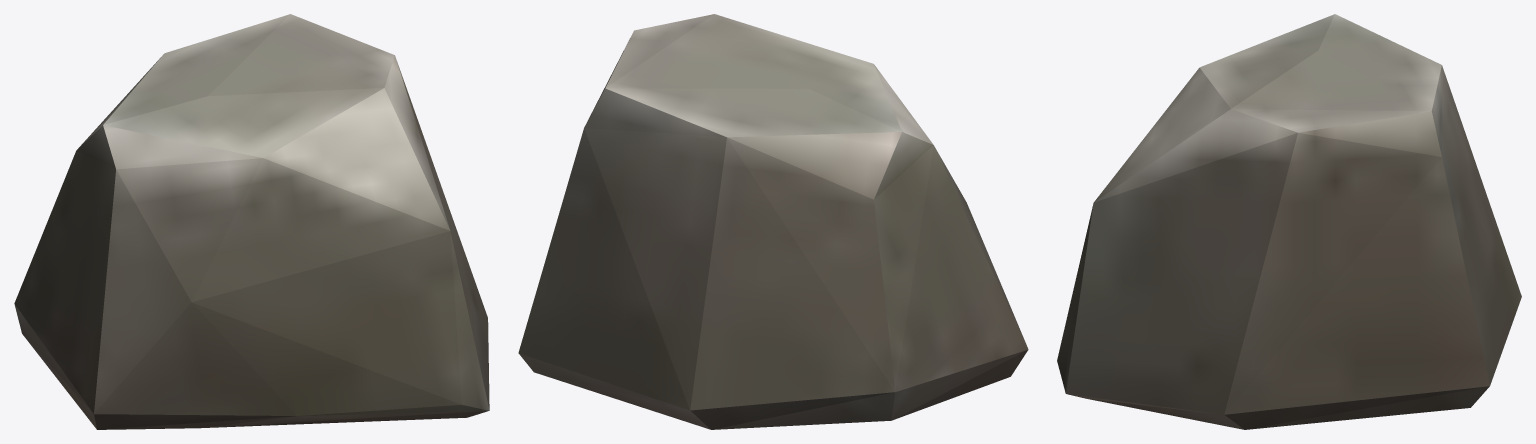
Rendered from rock_07.glb.
3 renders of one model, left to right at view 1: azimuth 30°, elevation 25°; view 2: azimuth 150°, elevation 25°; view 3: azimuth 270°, elevation 25°, orthographic. The views are drawn at different scales.
Parts seen in each view (by area): view 1: SM_Rocks_07_RocksStylized_M_0; view 2: SM_Rocks_07_RocksStylized_M_0; view 3: SM_Rocks_07_RocksStylized_M_0.
Boxes of the visible parts, bbox=[...] form: SM_Rocks_07_RocksStylized_M_0: bbox=[14, 14, 489, 429]; SM_Rocks_07_RocksStylized_M_0: bbox=[518, 14, 1028, 429]; SM_Rocks_07_RocksStylized_M_0: bbox=[1057, 14, 1521, 429].
Size of the model in its own units: 1.49 by 1.06 by 1.5.
Materials: 1 (1 with a texture image).
